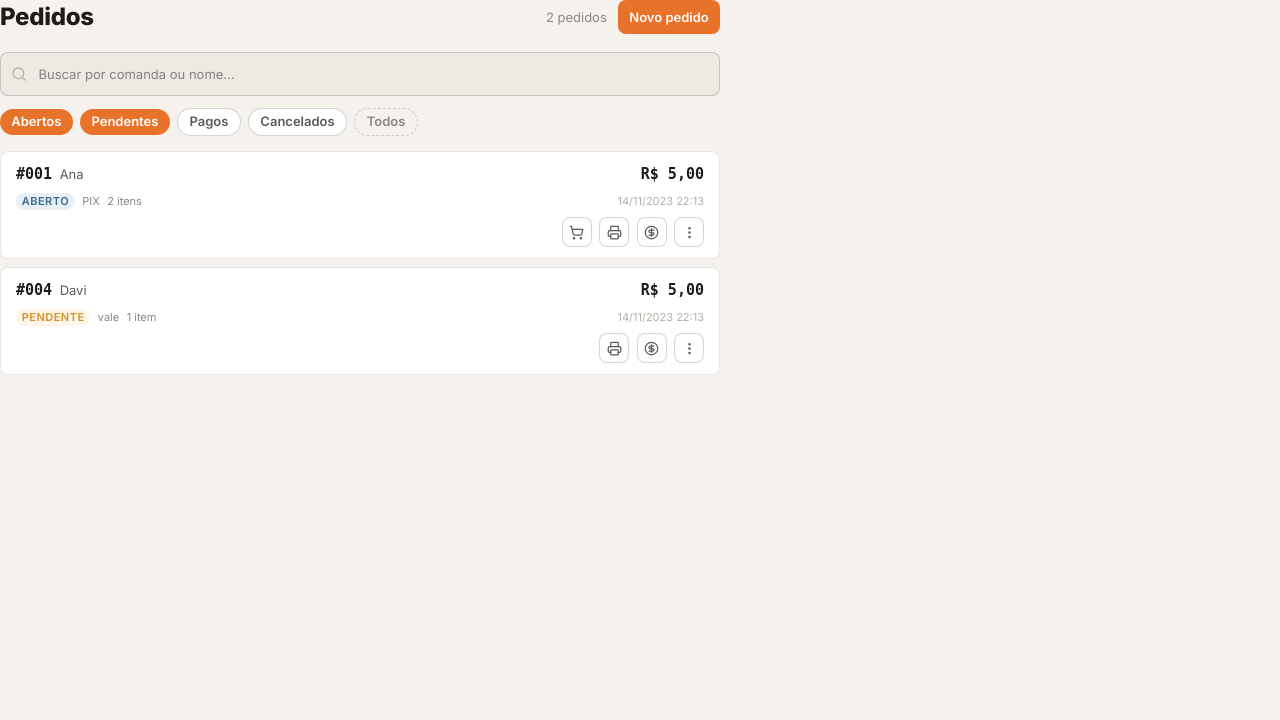
Scenario: OrdersPage › keeps the modal open when marking as paid fails
The width and height of the screenshot is (1280, 720).
Expected: the text "#004" is shown, [16,279,52,302]
Click the 2nd button named "Mais ações". click: (689, 348)
box: [674,333,704,363]
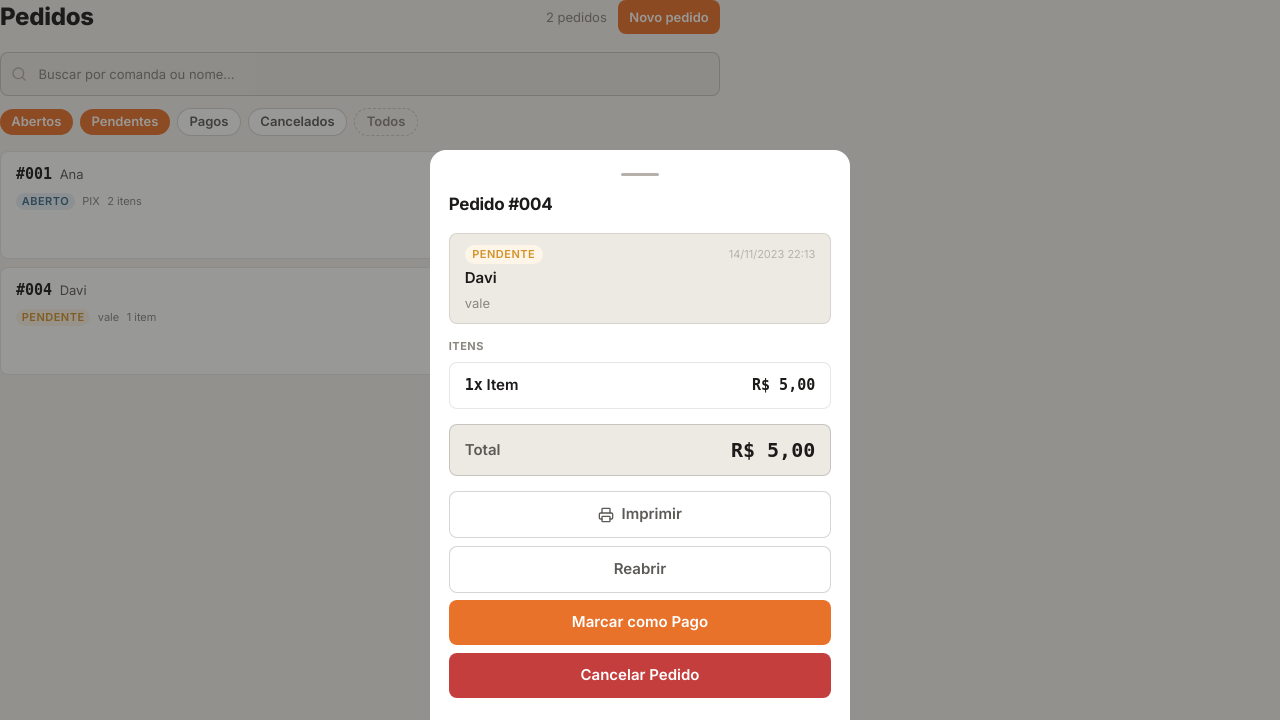
Click the button "Marcar como Pago". click: (640, 622)
box: [449,600,831,645]
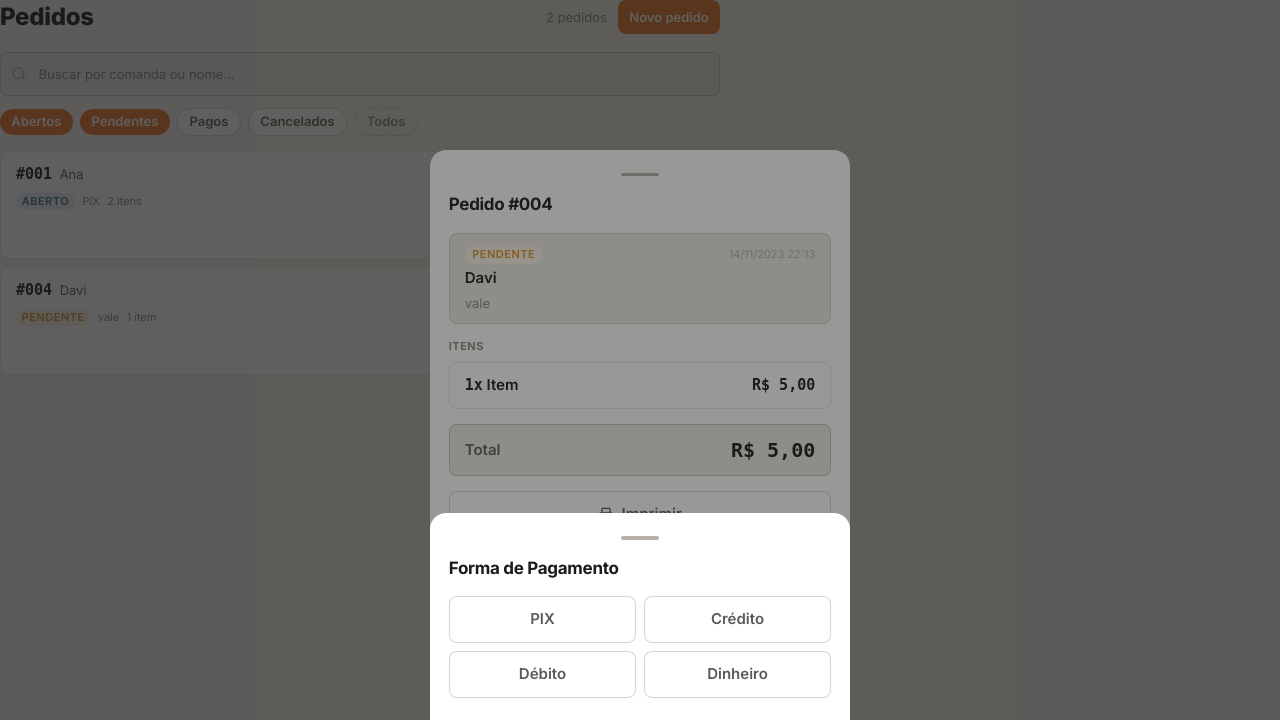
Click the button "Crédito". click: (738, 620)
box: [644,596,831,643]
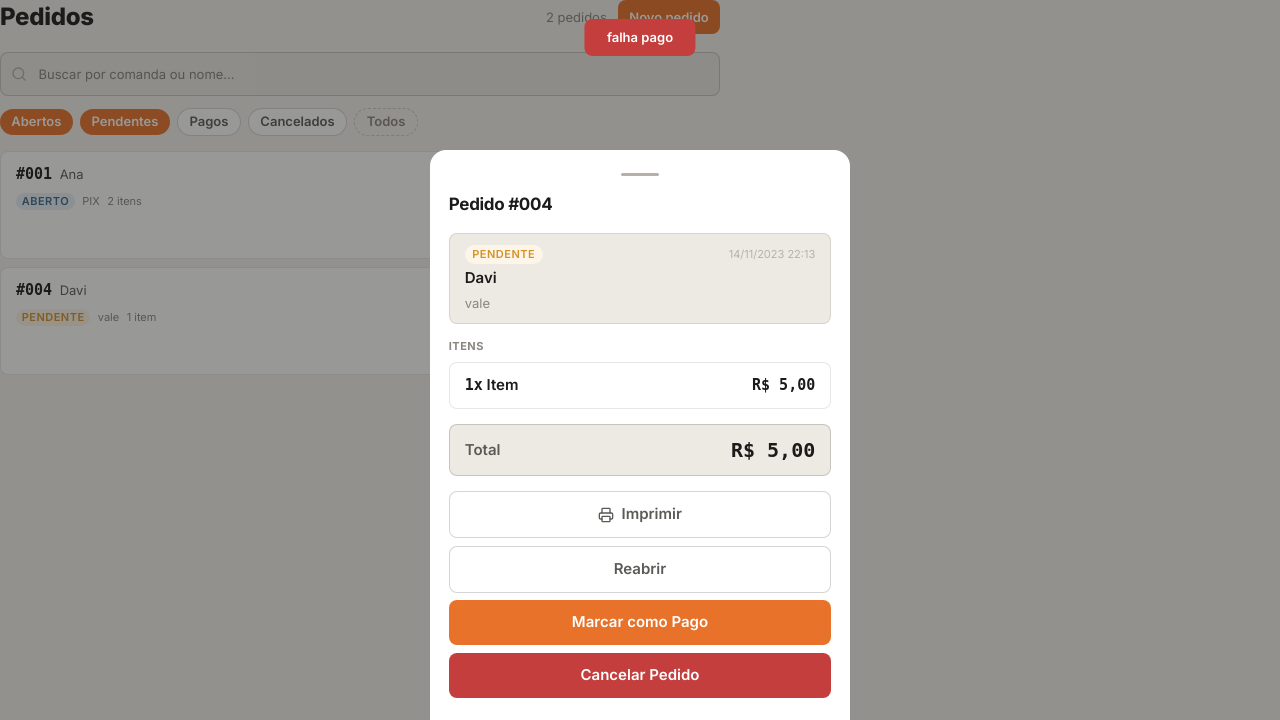
Now the dialog "Pedido #004" is shown, box [430,150,850,719]
Now the message reads "falha pago", box [607,29,673,45]
